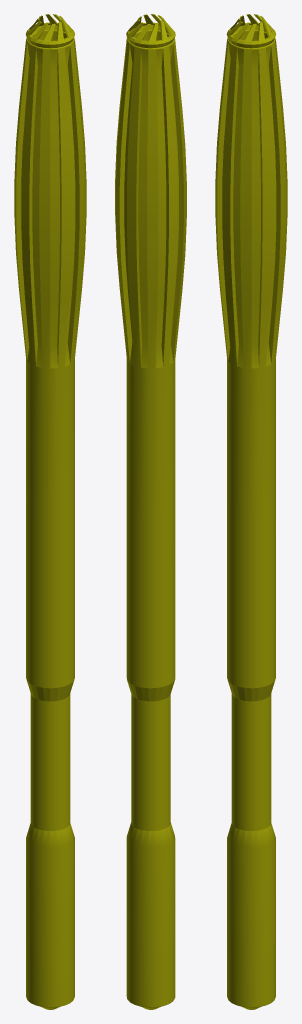
File: Rod.fbx
3 views of the same model, side by side, from view 1: azimuth 90°, elevation 25°; view 2: azimuth 210°, elevation 25°; view 3: azimuth 270°, elevation 25° (orthographic).
Parts seen in each view (by area): view 1: Rod; view 2: Rod; view 3: Rod.
Boxes of the visible parts, box(x1,y1,x2,y2) form: Rod: box(14, 14, 86, 1009); Rod: box(115, 14, 186, 1009); Rod: box(215, 14, 287, 1009).
Size of the model in its own units: 0.6135 by 9.28 by 0.6135.
